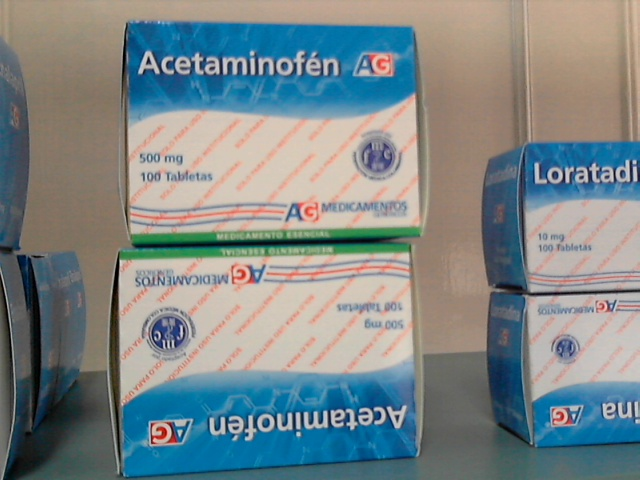AG: (120, 252, 416, 478), (128, 22, 421, 245)
